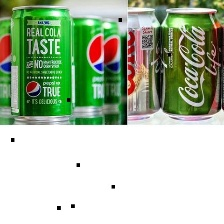can: (8, 5, 73, 126), (159, 8, 219, 122), (63, 11, 107, 119), (126, 6, 160, 123), (98, 15, 122, 118), (0, 13, 13, 117)
